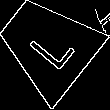L_NW: (19, 17, 76, 73)
